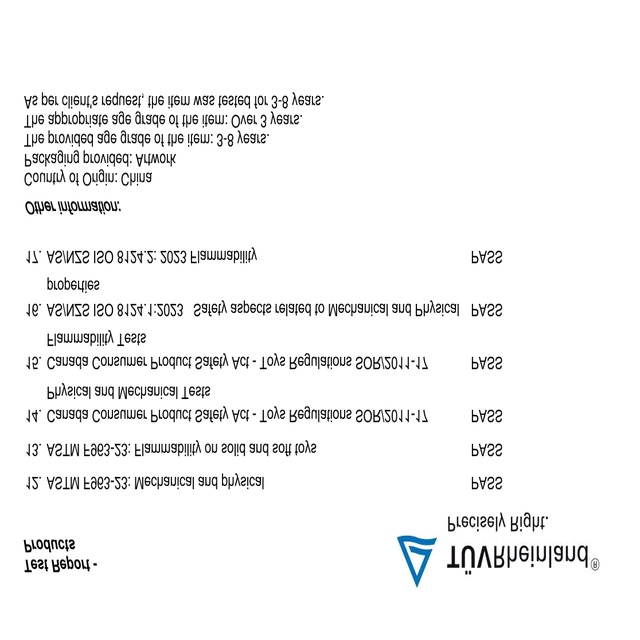tuv_rheinland: (391, 531, 605, 588)
